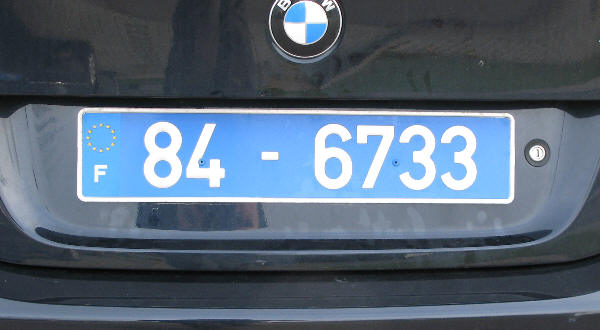license_plate: (76, 106, 515, 206)
